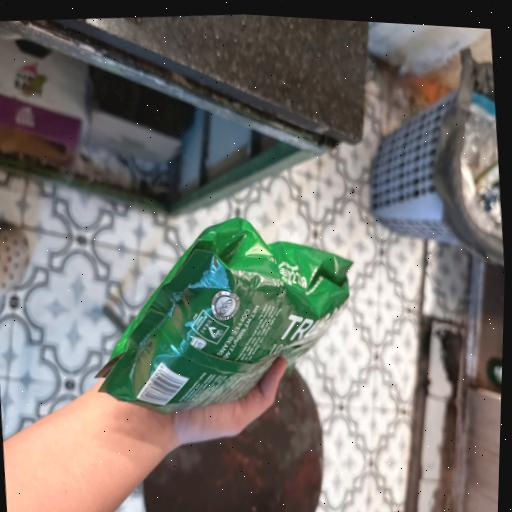cafe_xay: (96, 218, 351, 413)
